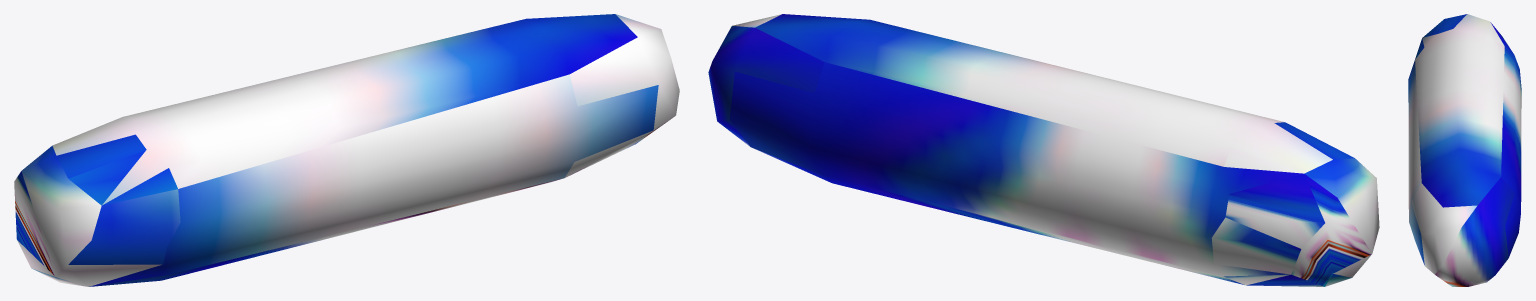
The model's file is bulletOB.obj.
The picture shows the model from 3 angles, left to right: view 1: azimuth 30°, elevation 25°; view 2: azimuth 150°, elevation 25°; view 3: azimuth 270°, elevation 25°; orthographic projection. The views are drawn at different scales.
Bounding box in the file's own units: 0.8349 × 0.1948 × 0.1893.
